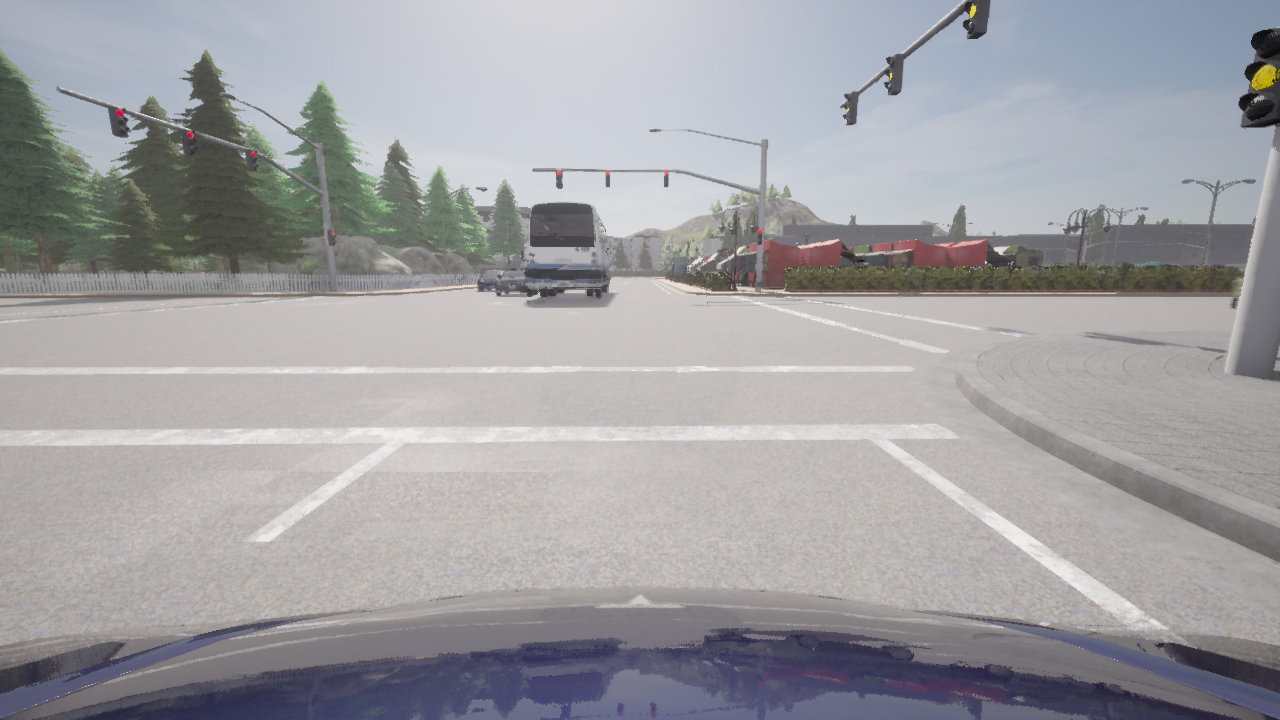cyclist: (0, 588, 1279, 719), (528, 201, 613, 296), (494, 269, 538, 295), (478, 269, 506, 290), (1230, 270, 1244, 310), (520, 243, 527, 269), (1195, 264, 1225, 265), (1239, 269, 1244, 270)
